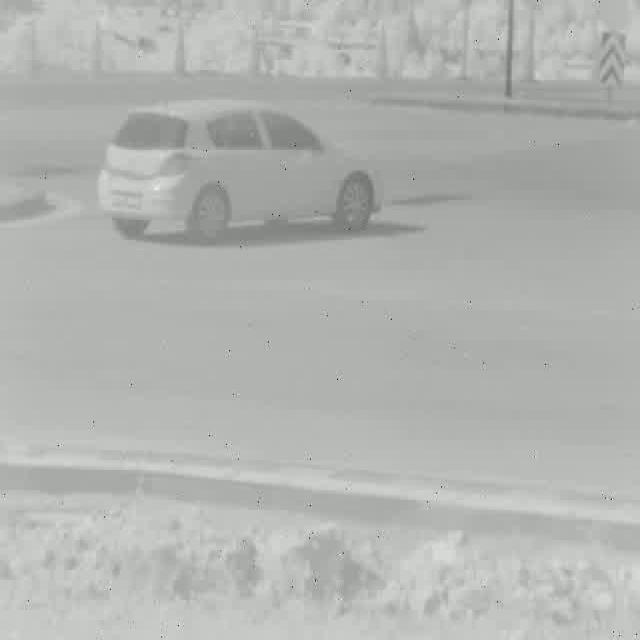Car: (97, 103, 381, 234)
